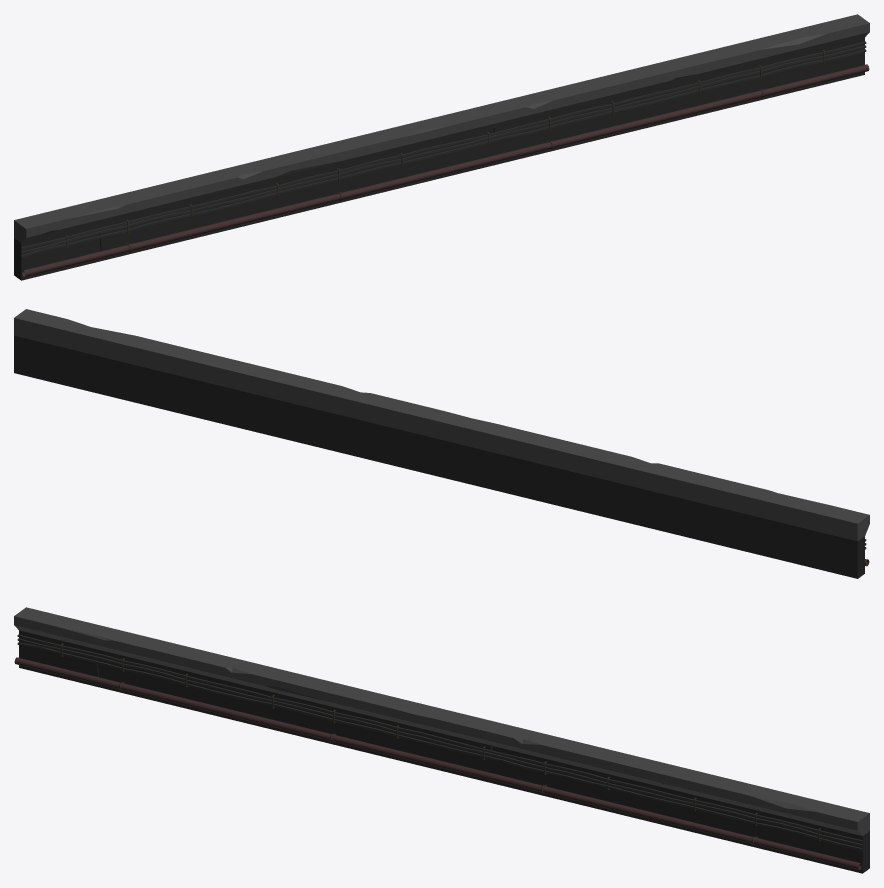
The model's file is SW_ENV_RailTunnel_Wall_Ledge_A_20m_FF.fbx.
3 views of the same model, one above another, from view 1: azimuth 30°, elevation 25°; view 2: azimuth 150°, elevation 25°; view 3: azimuth 330°, elevation 25° (orthographic).
Visible parts, largest first — view 1: SW_ENV_RailTunnel_Wall_Ledge_A_20m_FF; view 2: SW_ENV_RailTunnel_Wall_Ledge_A_20m_FF; view 3: SW_ENV_RailTunnel_Wall_Ledge_A_20m_FF.
Part boxes in pixels (x1,y1,x2,y2): SW_ENV_RailTunnel_Wall_Ledge_A_20m_FF: (14, 14, 869, 280); SW_ENV_RailTunnel_Wall_Ledge_A_20m_FF: (14, 309, 869, 578); SW_ENV_RailTunnel_Wall_Ledge_A_20m_FF: (14, 607, 869, 873).
Size of the model in its own units: 20 by 1.25 by 0.5.
